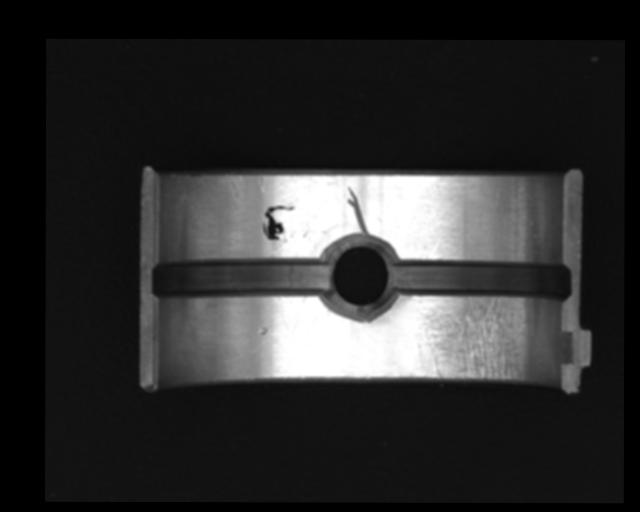blot: (260, 204, 296, 241)
bruise: (257, 325, 269, 335)
gap: (152, 255, 334, 303), (394, 259, 571, 300)
hole: (318, 236, 399, 319)
nick: (345, 185, 368, 236), (424, 240, 440, 260)
scratch: (410, 296, 536, 380)
